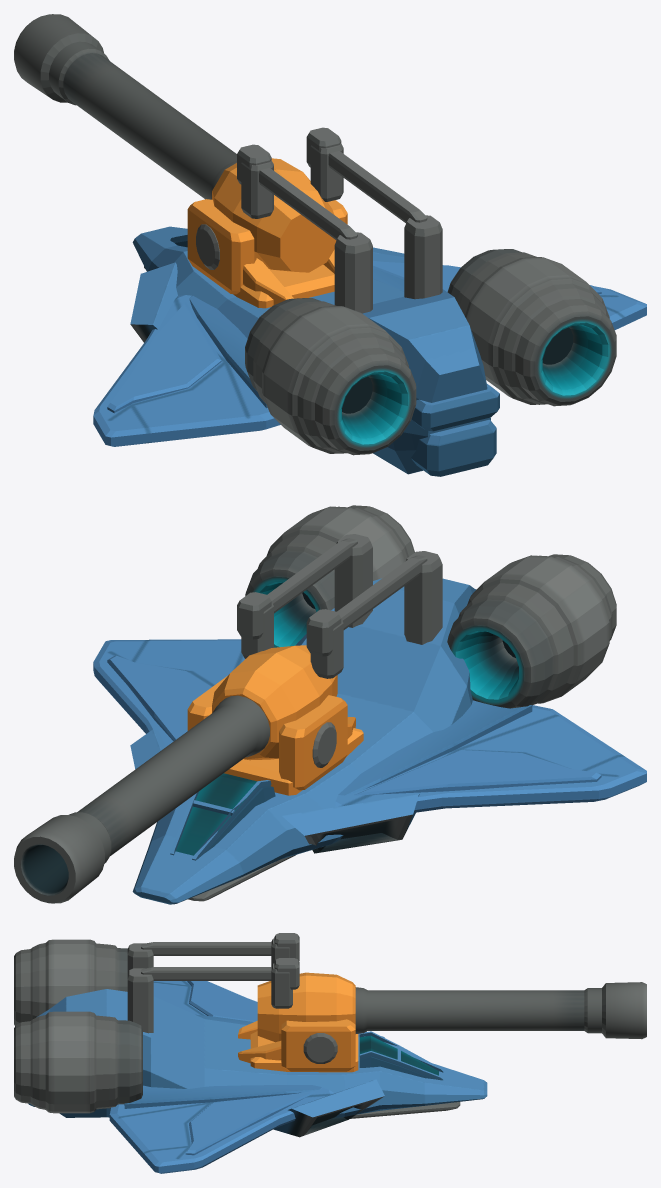
3 renders of one model, top to bottom at view 1: azimuth 30°, elevation 25°; view 2: azimuth 150°, elevation 25°; view 3: azimuth 270°, elevation 25°, orthographic. The views are drawn at different scales.
Bounding box in the file's own units: 5.82 × 2.2 × 8.
Materials: 1 (1 with a texture image).
